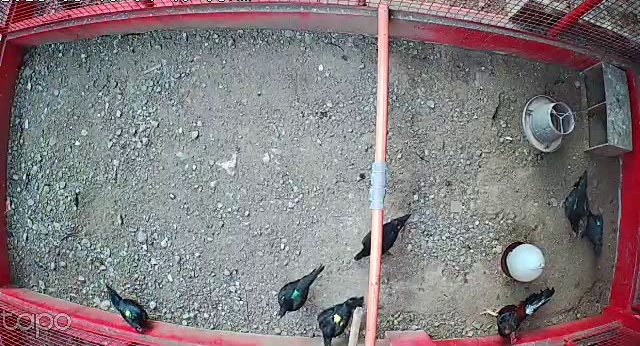Chicken: (351, 213, 414, 265), (102, 280, 155, 337), (274, 262, 324, 317), (316, 294, 365, 346), (557, 171, 595, 236), (576, 210, 608, 256)
Rooster: (477, 285, 555, 346)
Saddle_Color_Yellow: (332, 313, 344, 327)
Saddle_Color_YellowGreen: (124, 308, 134, 320)
